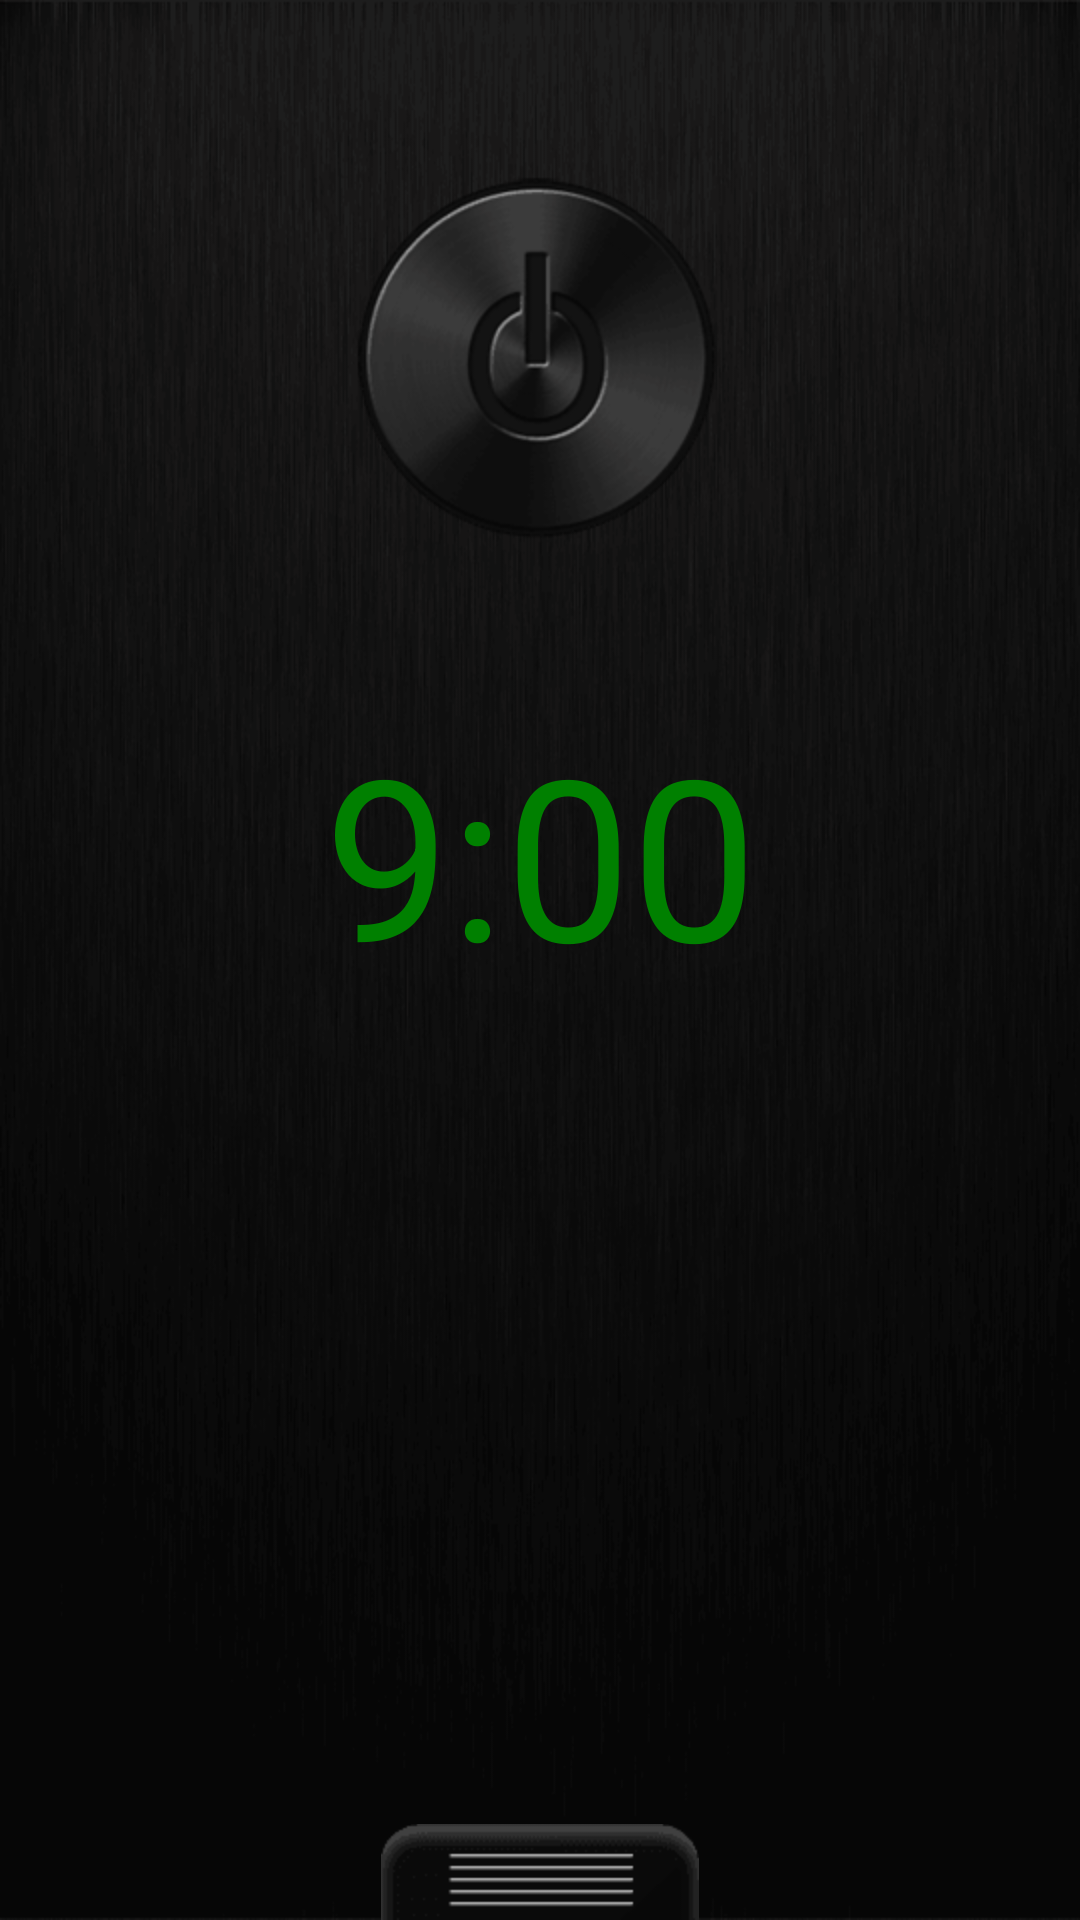

Icon click points for this 1080px x 1920px phone screenshot, format (x=x, y=y):
drawer top: (x=540, y=1872)
mainbutton off: (x=535, y=344)
